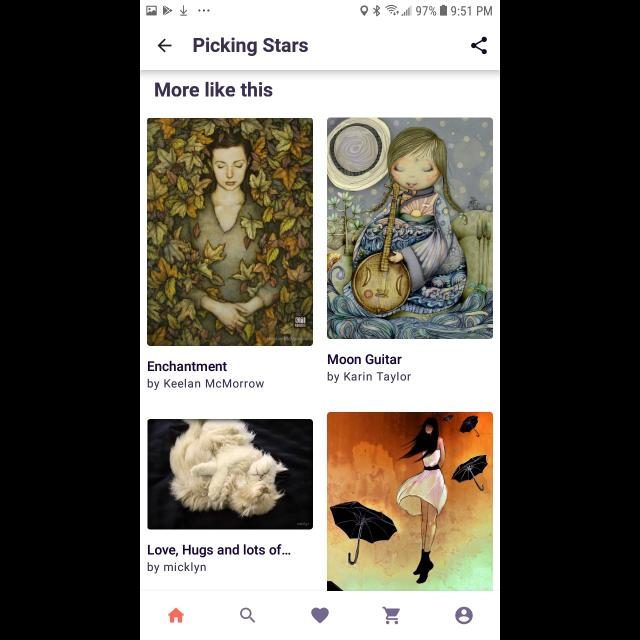icon: (470, 37, 488, 55), (383, 607, 401, 625), (455, 607, 473, 625), (311, 607, 329, 623), (156, 38, 172, 54), (168, 608, 184, 624), (240, 608, 256, 622)
image: (147, 118, 313, 346), (327, 118, 493, 340), (327, 412, 493, 592), (147, 418, 313, 530)
text: (194, 38, 308, 56), (148, 543, 292, 557), (155, 82, 273, 98), (148, 380, 264, 390), (328, 372, 410, 384), (328, 354, 402, 366), (148, 361, 228, 372), (148, 562, 206, 574)
uppertaskbar: (140, 0, 500, 16)
